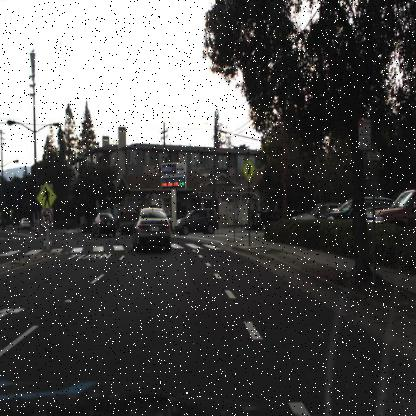car: (131, 204, 172, 256), (320, 192, 395, 220), (323, 194, 393, 221), (376, 188, 416, 234), (174, 207, 220, 240), (290, 195, 341, 223), (87, 206, 122, 245), (89, 210, 118, 241), (20, 216, 31, 229)
